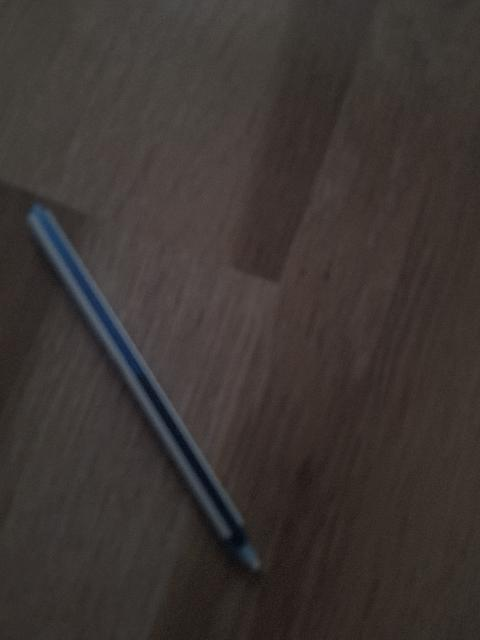writing_tool: (14, 207, 279, 592)
